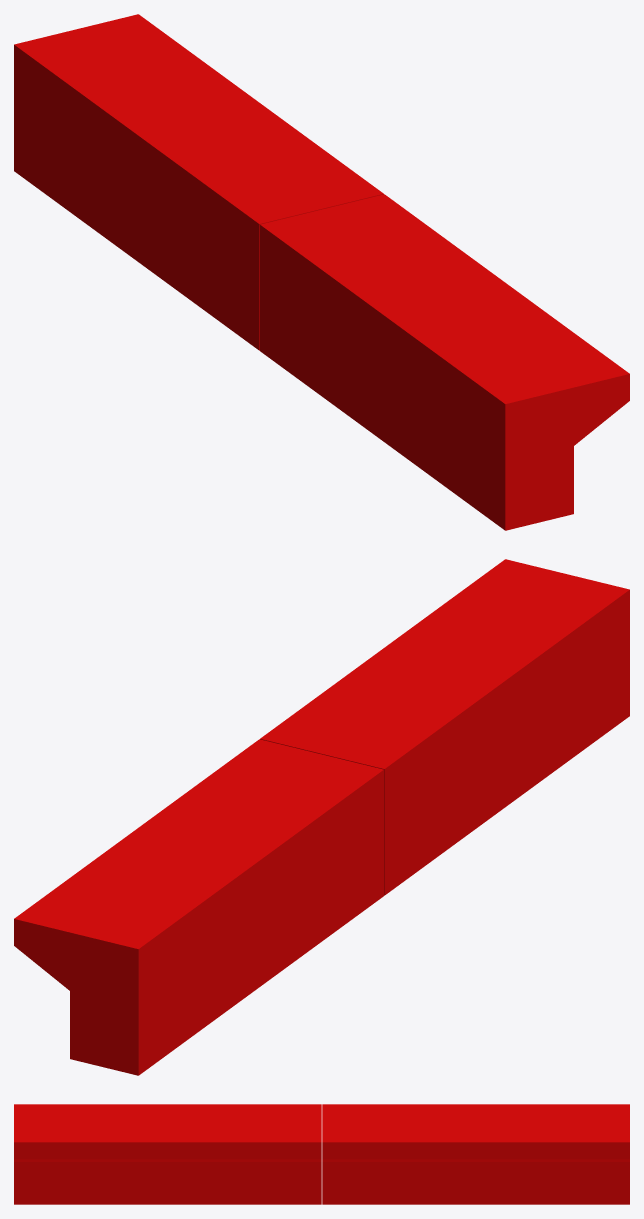
File: Arc_Orn_02_Lod0.fbx
The picture shows the model from 3 angles, top to bottom: view 1: azimuth 30°, elevation 25°; view 2: azimuth 150°, elevation 25°; view 3: azimuth 270°, elevation 25°; orthographic projection. The views are drawn at different scales.
Parts seen in each view (by area): view 1: Arc_Orn_02_Lod0; view 2: Arc_Orn_02_Lod0; view 3: Arc_Orn_02_Lod0.
Boxes of the visible parts, left/top/right/bottom form: Arc_Orn_02_Lod0: left=14, top=14, right=629, bottom=530; Arc_Orn_02_Lod0: left=14, top=559, right=629, bottom=1075; Arc_Orn_02_Lod0: left=14, top=1104, right=629, bottom=1204.
Size of the model in its own units: 221 by 215 by 1513.
